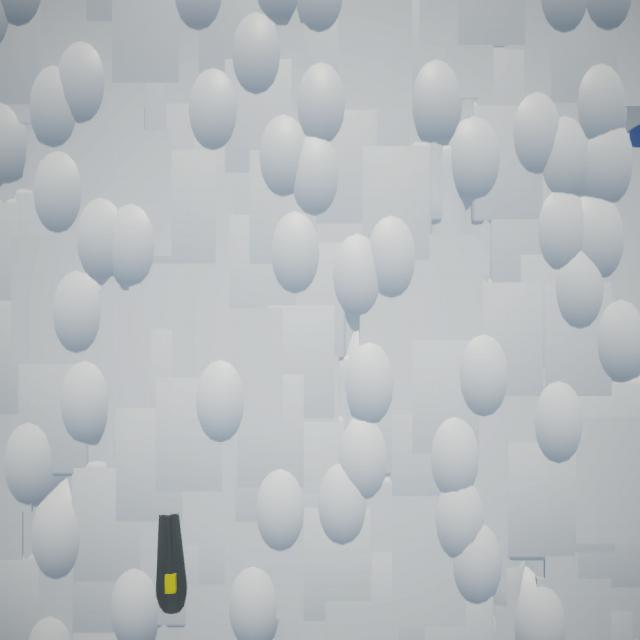handle_folk: (157, 515, 188, 615)
